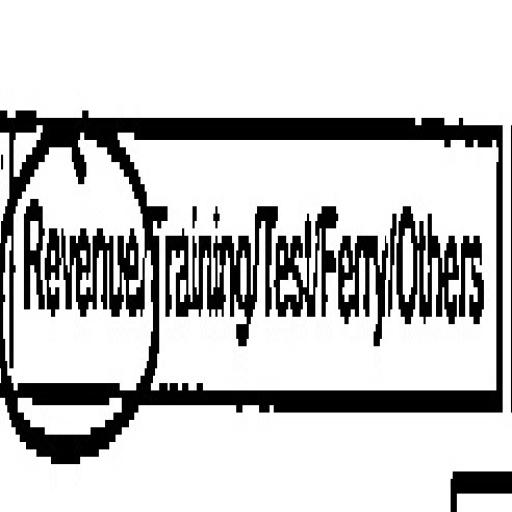check: (8, 58, 149, 476)
